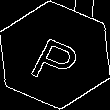P_NE: (25, 24, 85, 86)
